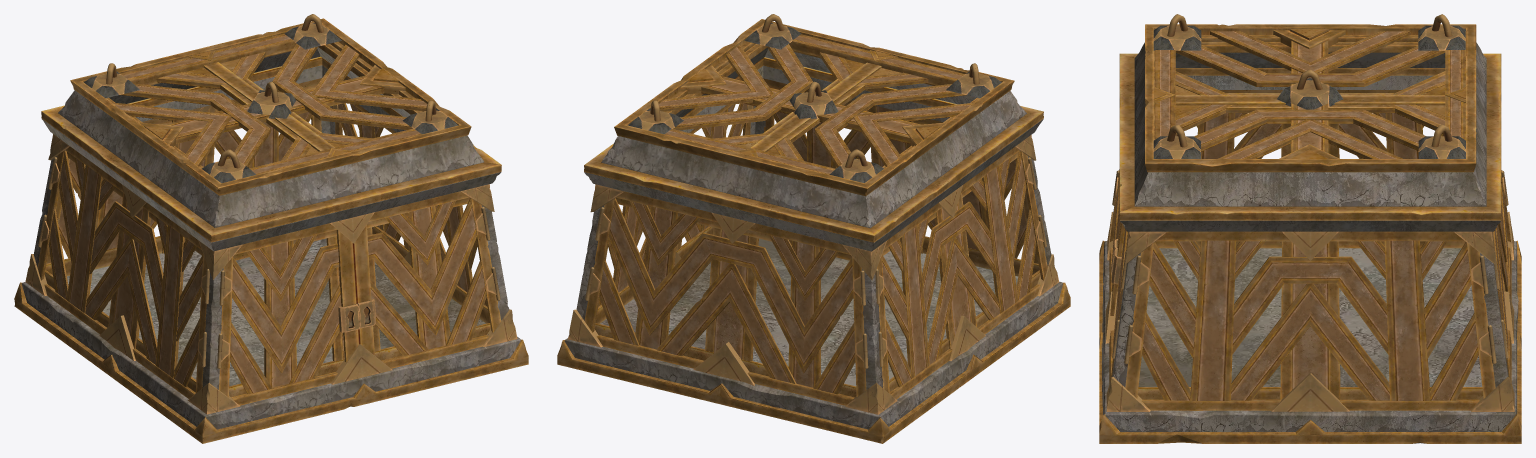
The picture shows the model from 3 angles, left to right: view 1: azimuth 30°, elevation 25°; view 2: azimuth 150°, elevation 25°; view 3: azimuth 270°, elevation 25°; orthographic projection. The views are drawn at different scales.
Parts seen in each view (by area): view 1: SM_Dragonkin_Cage_02_LOD0; view 2: SM_Dragonkin_Cage_02_LOD0; view 3: SM_Dragonkin_Cage_02_LOD0.
Boxes of the visible parts, <box> form: SM_Dragonkin_Cage_02_LOD0: <box>14,14,528,443</box>; SM_Dragonkin_Cage_02_LOD0: <box>557,14,1070,443</box>; SM_Dragonkin_Cage_02_LOD0: <box>1099,14,1521,443</box>.
Bounding box in the file's own units: 5.78 × 4.28 × 5.77.
Materials: 3 (3 with a texture image).
